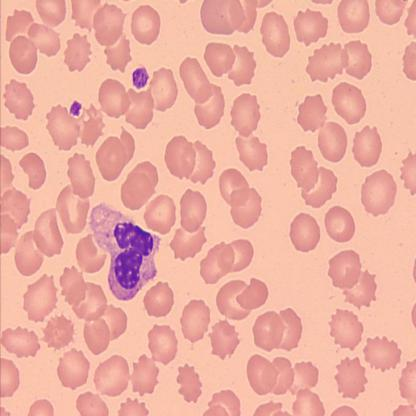Segmented neutrophil: (87, 199, 162, 303)
